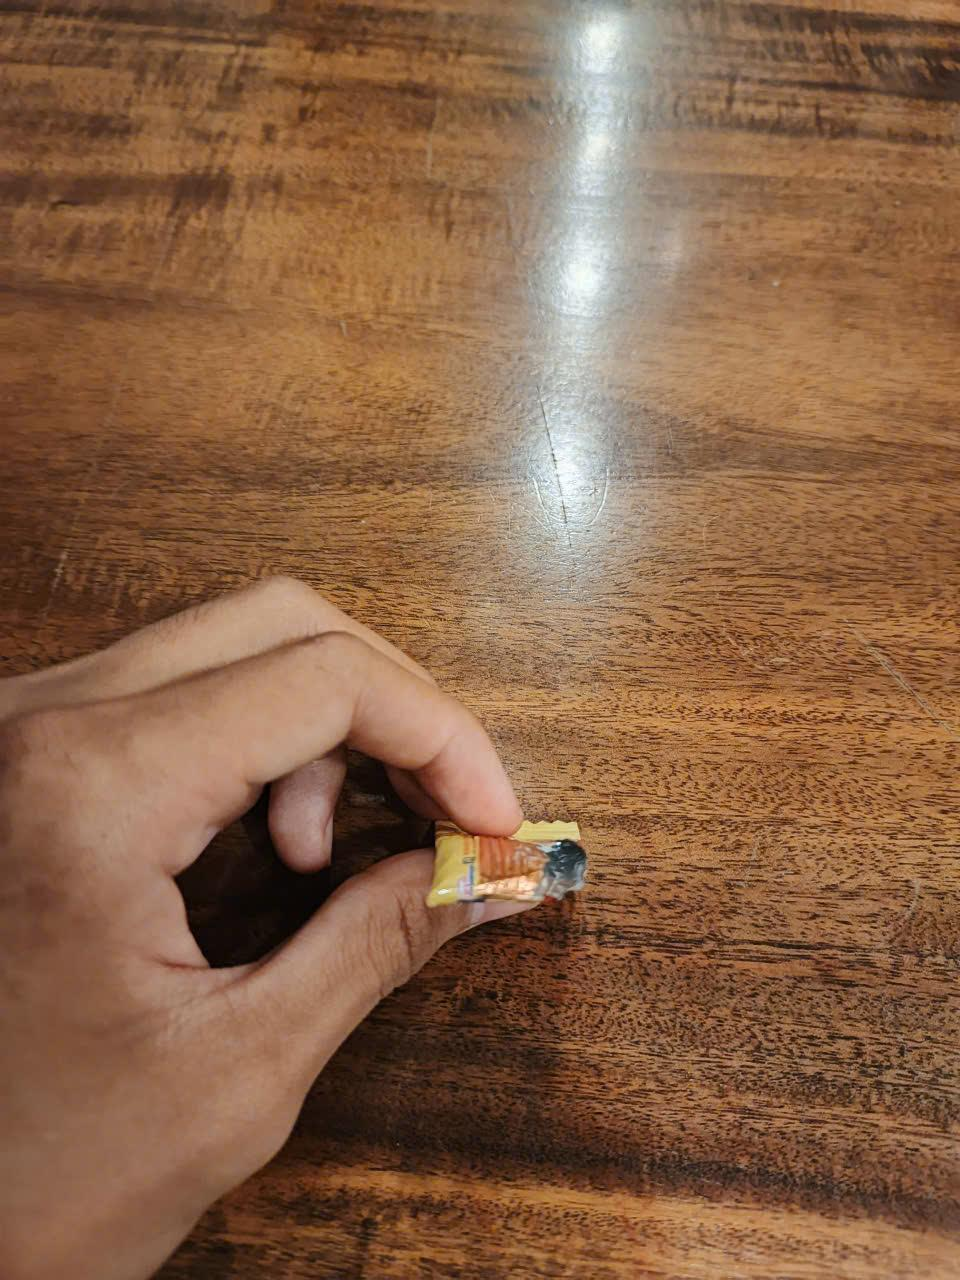Con lai: (435, 813, 596, 919)
